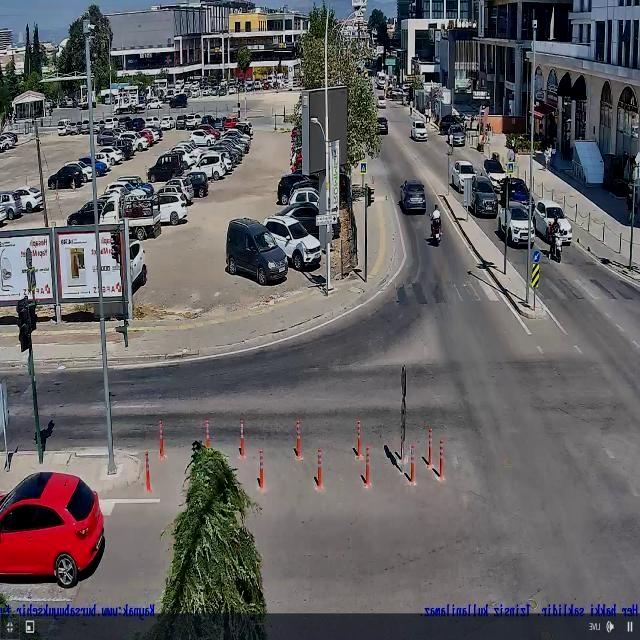Car: (0, 471, 104, 588), (225, 218, 289, 284), (260, 214, 321, 268), (278, 198, 339, 242), (533, 200, 573, 245), (498, 200, 534, 246), (469, 176, 499, 217), (153, 194, 189, 226), (497, 176, 532, 206), (399, 179, 426, 213), (12, 186, 44, 213), (483, 158, 508, 190), (447, 124, 465, 146), (410, 120, 428, 141), (376, 117, 388, 135), (376, 95, 386, 108)
